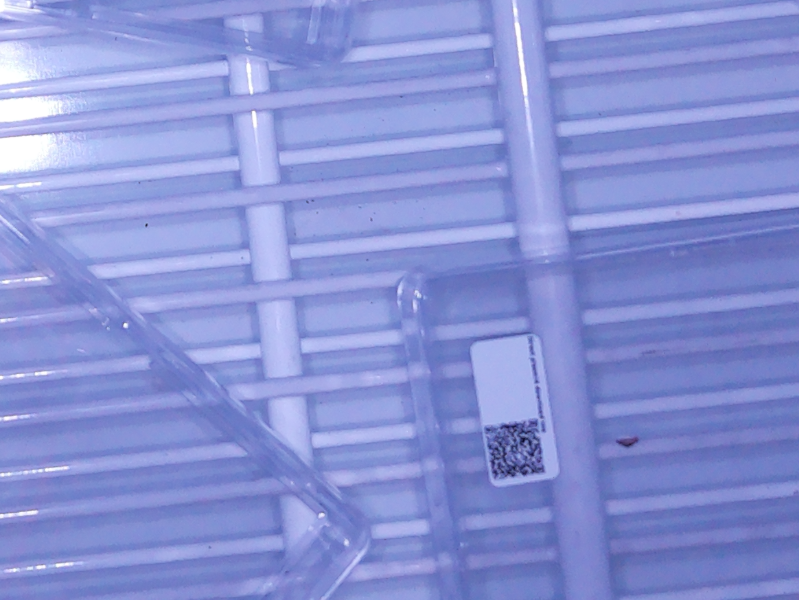plate: (397, 218, 799, 600), (1, 200, 374, 600), (1, 1, 358, 69)
